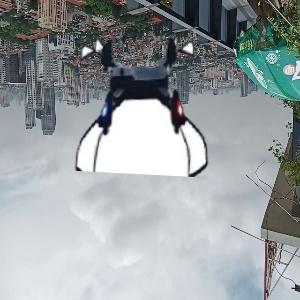drone: (69, 30, 215, 176)
